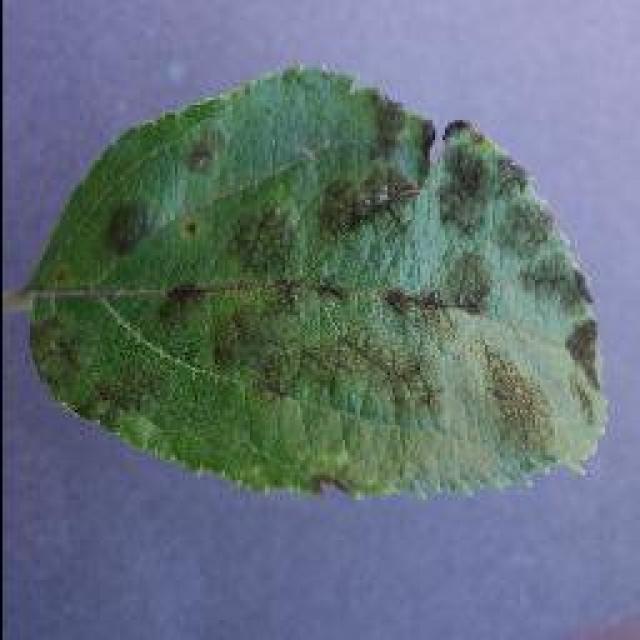apple scab disease: (18, 60, 612, 502)
